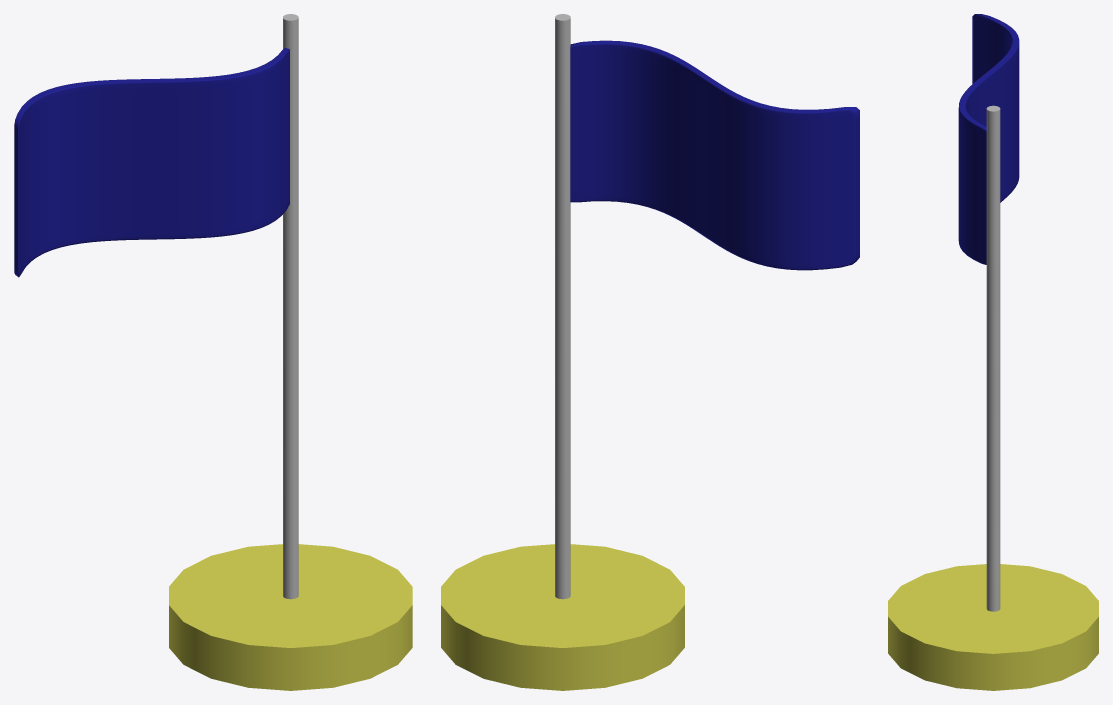
File: Flag.fbx
The picture shows the model from 3 angles, left to right: view 1: azimuth 30°, elevation 25°; view 2: azimuth 150°, elevation 25°; view 3: azimuth 270°, elevation 25°; orthographic projection. The views are drawn at different scales.
Parts seen in each view (by area): view 1: Box001, Cylinder001, Cylinder002; view 2: Box001, Cylinder001, Cylinder002; view 3: Cylinder001, Box001, Cylinder002.
Boxes of the visible parts, left/top/right/bottom form: Box001: left=14, top=48, right=289, bottom=277; Cylinder001: left=169, top=544, right=412, bottom=690; Cylinder002: left=283, top=14, right=298, bottom=599; Box001: left=570, top=40, right=859, bottom=270; Cylinder001: left=441, top=544, right=684, bottom=690; Cylinder002: left=555, top=14, right=570, bottom=599; Cylinder001: left=888, top=564, right=1098, bottom=690; Box001: left=958, top=14, right=1019, bottom=264; Cylinder002: left=986, top=105, right=1000, bottom=611.
Bounding box in the file's own units: 46.66 × 70.66 × 25.13.
